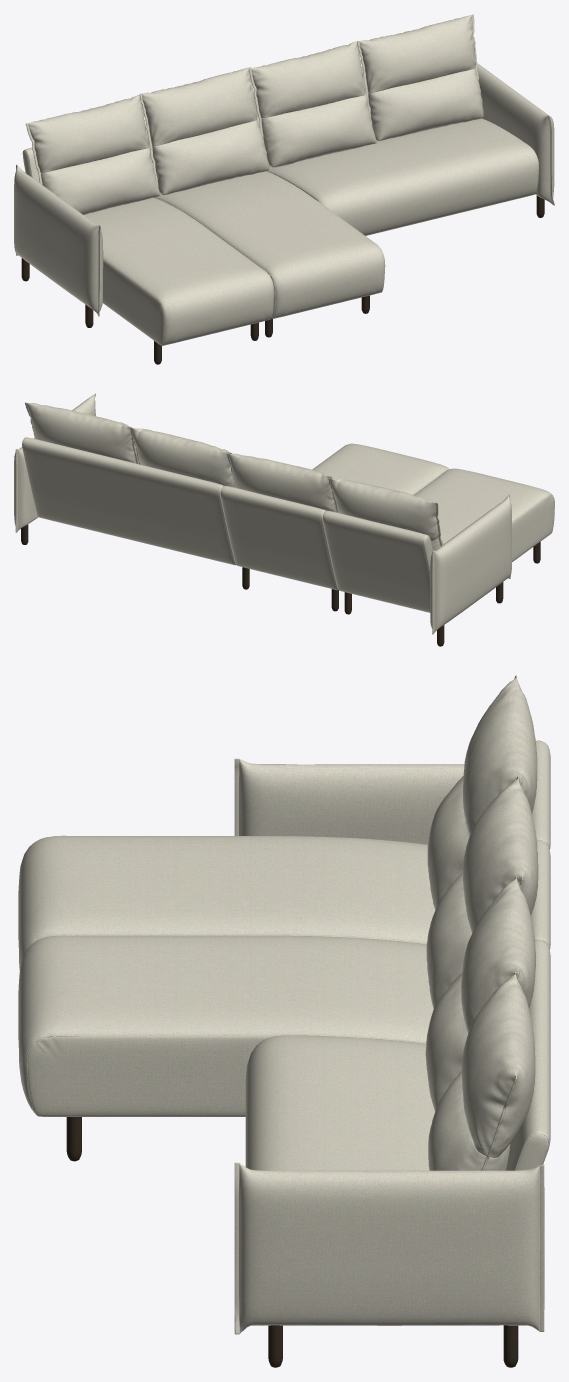
Rendered from ikea-mannarp-2.glb.
3 views of the same model, one above another, from view 1: azimuth 30°, elevation 25°; view 2: azimuth 150°, elevation 25°; view 3: azimuth 270°, elevation 25° (orthographic). The views are drawn at different scales.
Visible parts, largest first — view 1: 0011, 0003; view 2: 0011, 0003; view 3: 0011, 0003.
Boxes of the visible parts, x1,y1,x2,y2 form: 0011: [14, 14, 554, 345]; 0003: [21, 195, 544, 364]; 0011: [14, 393, 554, 634]; 0003: [21, 524, 540, 646]; 0011: [18, 675, 550, 1334]; 0003: [66, 1117, 518, 1367].
Size of the model in its own units: 3 by 0.9599 by 1.6.
Materials: 2 (2 with a texture image).
